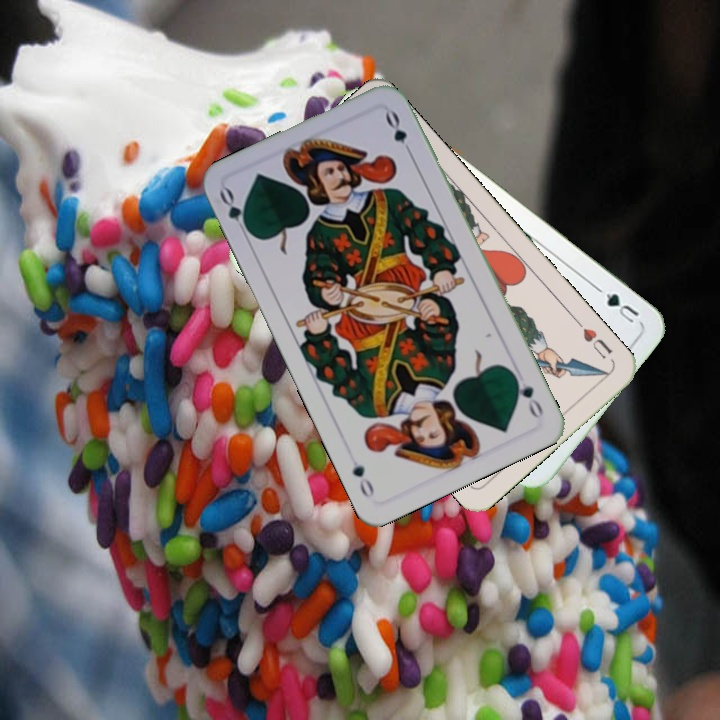GO: (215, 184, 255, 241), (508, 369, 546, 421)
GU: (601, 288, 642, 326)
HU: (578, 324, 616, 362)
